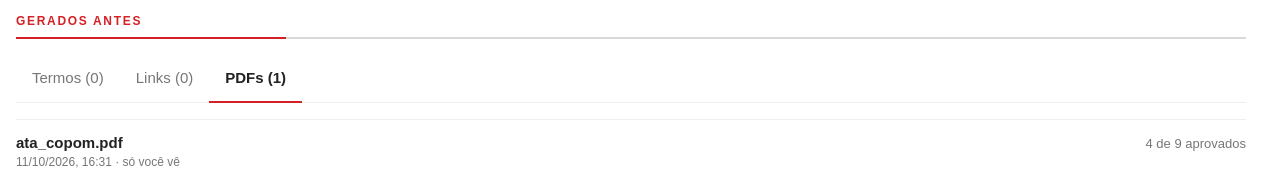
it: Entrada e histórico › histórico abre na primeira aba com conteúdo e explica a aba vazia
The width and height of the screenshot is (1263, 185).
Expected: the text "ata_copom.pdf" is shown, [16, 134, 123, 151]
Step 1. Click the tab "Links (0)" → (164, 79), box [120, 55, 209, 103]
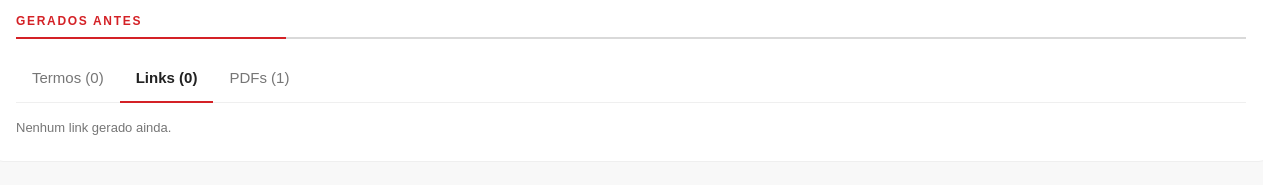
Expected: the text "Nenhum link gerado ainda." is shown, [16, 120, 171, 135]
